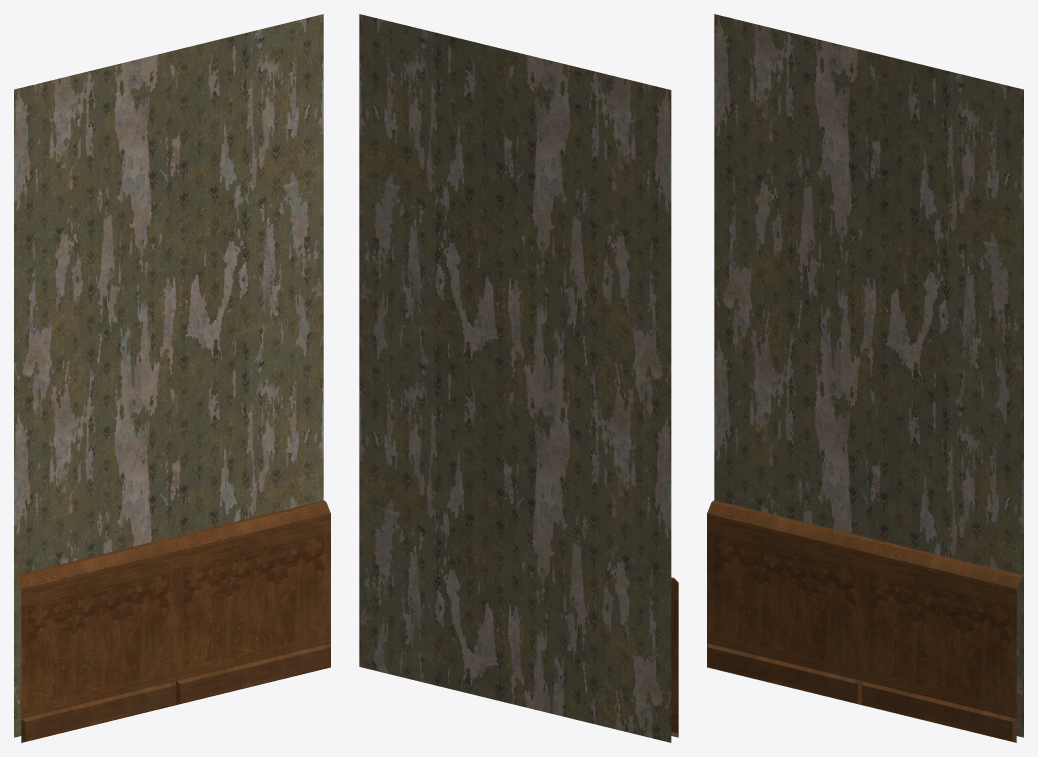
Rendered from SM_Wall_Paper_01.fbx.
The picture shows the model from 3 angles, left to right: view 1: azimuth 30°, elevation 25°; view 2: azimuth 150°, elevation 25°; view 3: azimuth 330°, elevation 25°; orthographic projection.
Visible parts, largest first — view 1: SM_Wall_Paper_01; view 2: SM_Wall_Paper_01; view 3: SM_Wall_Paper_01.
Part boxes in pixels (x1=…): SM_Wall_Paper_01: x1=14, y1=14, x2=330, y2=742; SM_Wall_Paper_01: x1=359, y1=14, x2=678, y2=742; SM_Wall_Paper_01: x1=707, y1=14, x2=1023, y2=742.
Size of the model in its own units: 200 by 400 by 10.
